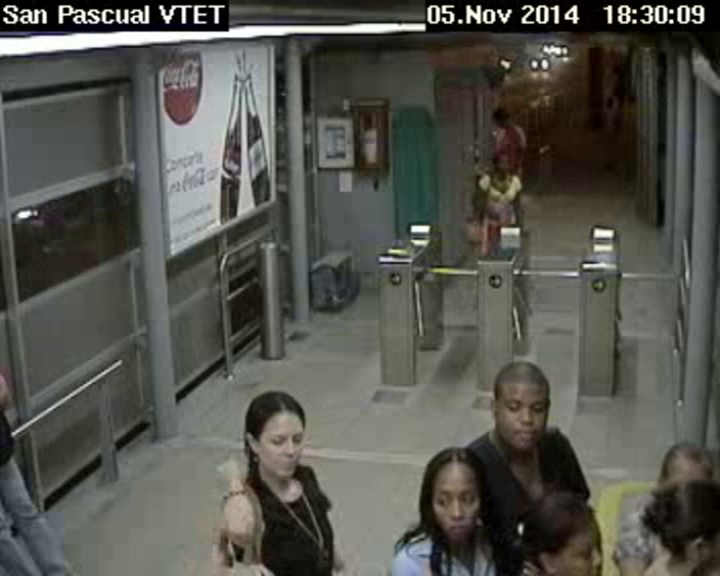person: (522, 483, 605, 576), (234, 388, 312, 484), (647, 472, 720, 572), (408, 444, 484, 536), (490, 358, 554, 456), (661, 436, 712, 507), (487, 152, 511, 177), (491, 104, 512, 127)
